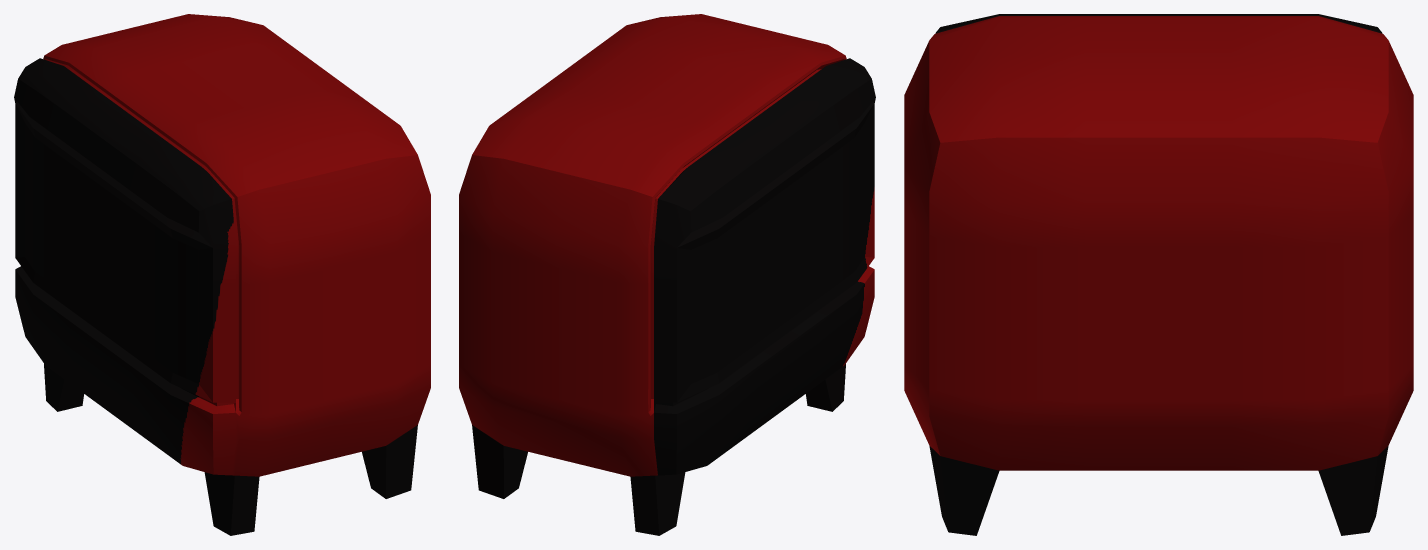
The model's file is oven.fbx.
3 renders of one model, left to right at view 1: azimuth 30°, elevation 25°; view 2: azimuth 150°, elevation 25°; view 3: azimuth 270°, elevation 25°, orthographic. The views are drawn at different scales.
Visible parts, largest first — view 1: polySurface24, polySurface18, polySurface25, polySurface22, polySurface20, polySurface23; view 2: polySurface24, polySurface18, polySurface25, polySurface23, polySurface21, polySurface22; view 3: polySurface24, polySurface20, polySurface21, polySurface25.
Part boxes in pixels (bbox=[...]): polySurface24: bbox=[15, 14, 430, 476]; polySurface18: bbox=[15, 104, 212, 402]; polySurface25: bbox=[14, 58, 235, 406]; polySurface22: bbox=[204, 472, 259, 535]; polySurface20: bbox=[362, 425, 417, 498]; polySurface23: bbox=[44, 364, 83, 411]; polySurface24: bbox=[459, 14, 874, 476]; polySurface18: bbox=[677, 104, 874, 402]; polySurface25: bbox=[654, 58, 875, 406]; polySurface23: bbox=[630, 472, 685, 535]; polySurface21: bbox=[472, 425, 527, 498]; polySurface22: bbox=[806, 364, 845, 411]; polySurface24: bbox=[904, 15, 1413, 470]; polySurface20: bbox=[929, 446, 999, 535]; polySurface21: bbox=[1318, 446, 1388, 535]; polySurface25: bbox=[936, 14, 1381, 32].
Bounding box in the file's own units: 4.97 × 6.85 × 7.46.
